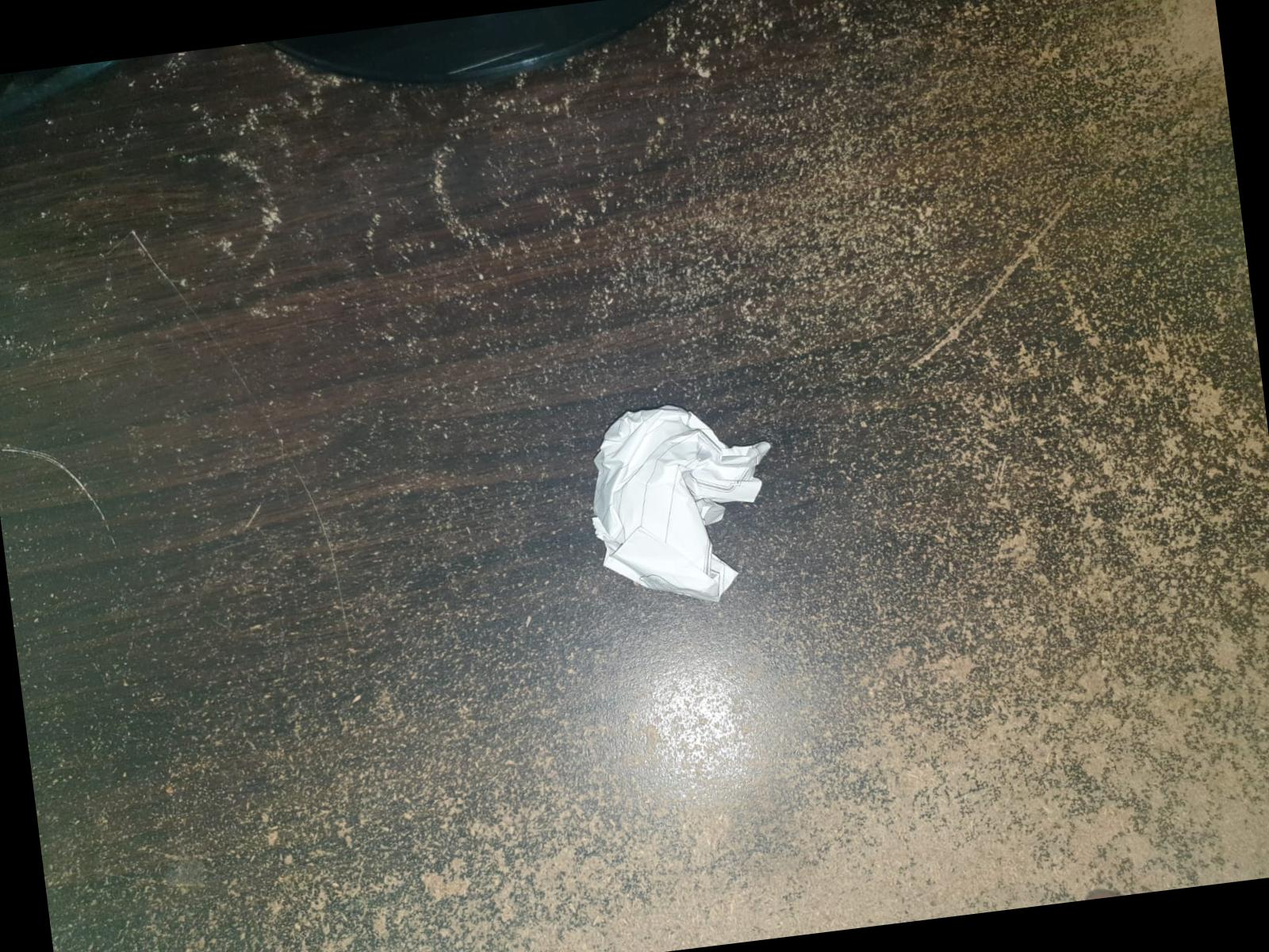Kertas: (593, 404, 770, 602)
